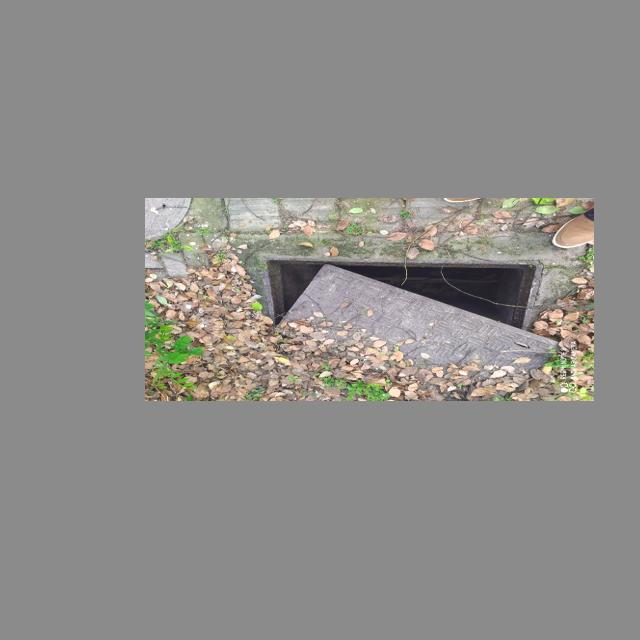lose: (217, 266, 528, 399)
